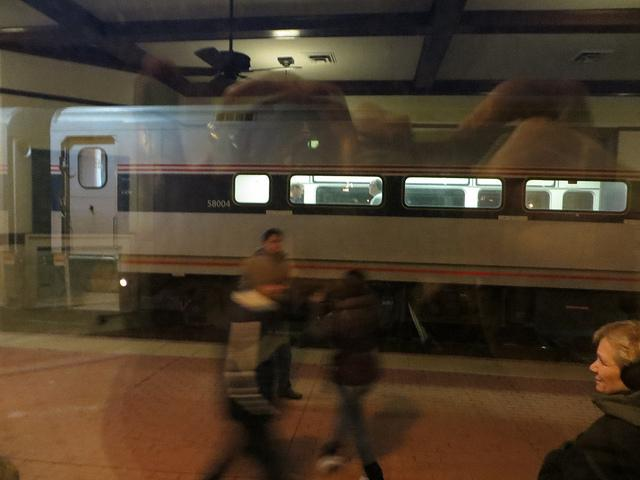Train: (49, 91, 640, 362)
